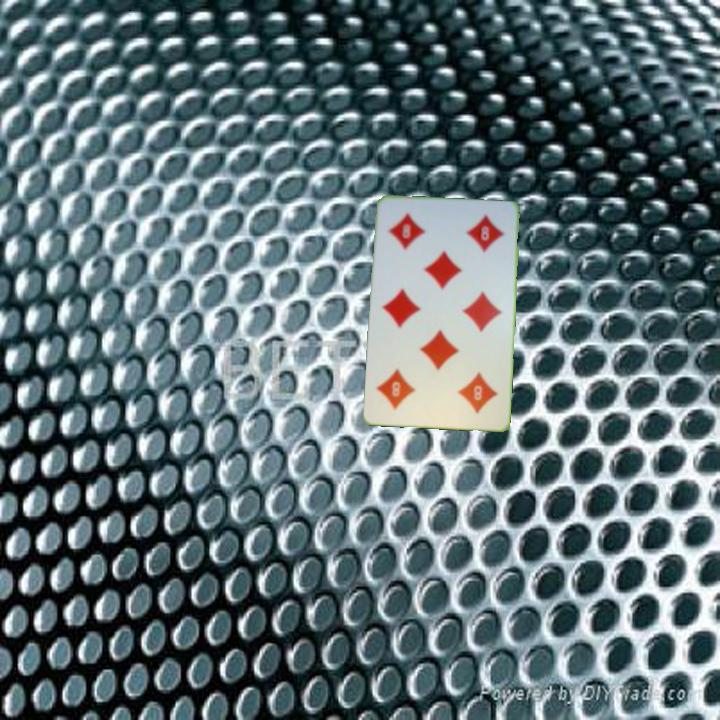d_8.png: (433, 360, 503, 422), (380, 204, 450, 265)
